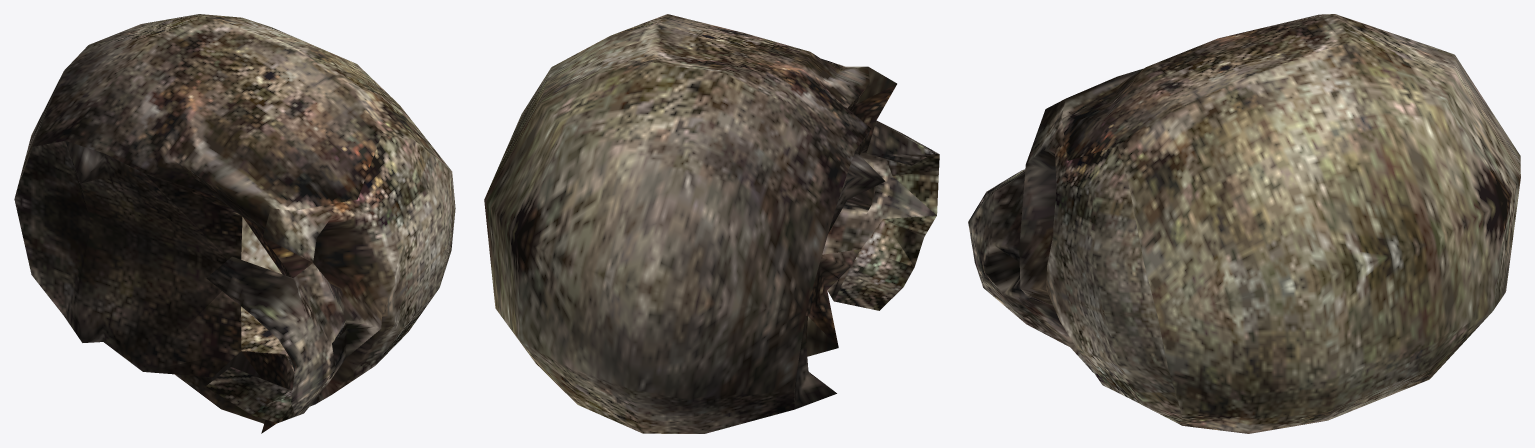
The model's file is skull.fbx.
The picture shows the model from 3 angles, left to right: view 1: azimuth 30°, elevation 25°; view 2: azimuth 150°, elevation 25°; view 3: azimuth 270°, elevation 25°; orthographic projection. The views are drawn at different scales.
Parts seen in each view (by area): view 1: skeleton_parts_2.object; view 2: skeleton_parts_2.object; view 3: skeleton_parts_2.object.
Part boxes in pixels (x1=…): skeleton_parts_2.object: x1=14, y1=14, x2=455, y2=433; skeleton_parts_2.object: x1=484, y1=14, x2=939, y2=433; skeleton_parts_2.object: x1=968, y1=14, x2=1520, y2=433.
Bounding box in the file's own units: 19.49 × 18.57 × 25.52.
